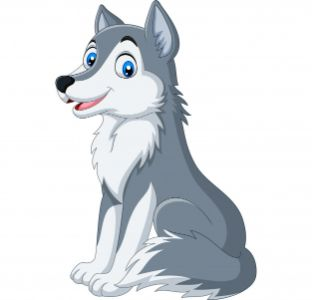wolf: (50, 1, 259, 296)
